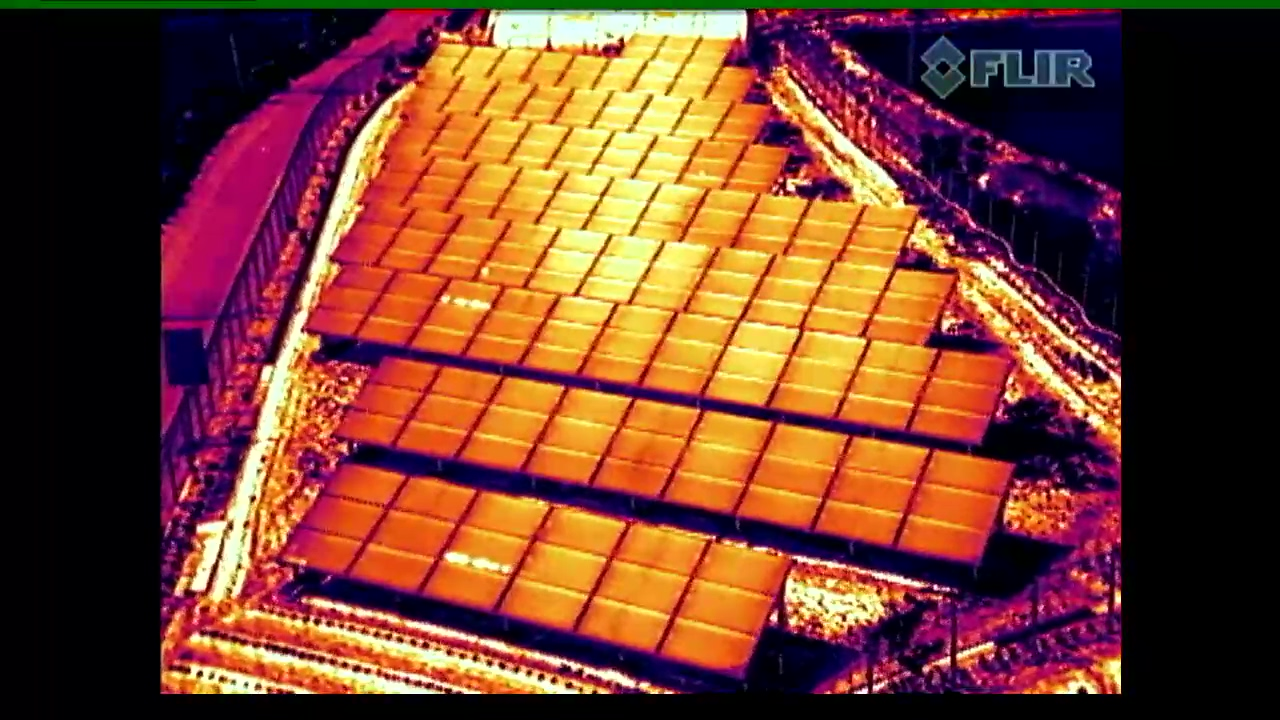hotspot: (408, 489, 553, 612), (405, 277, 507, 357), (472, 222, 562, 295)
